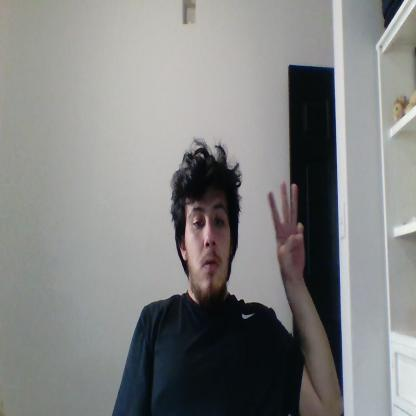W: (268, 181, 305, 280)
